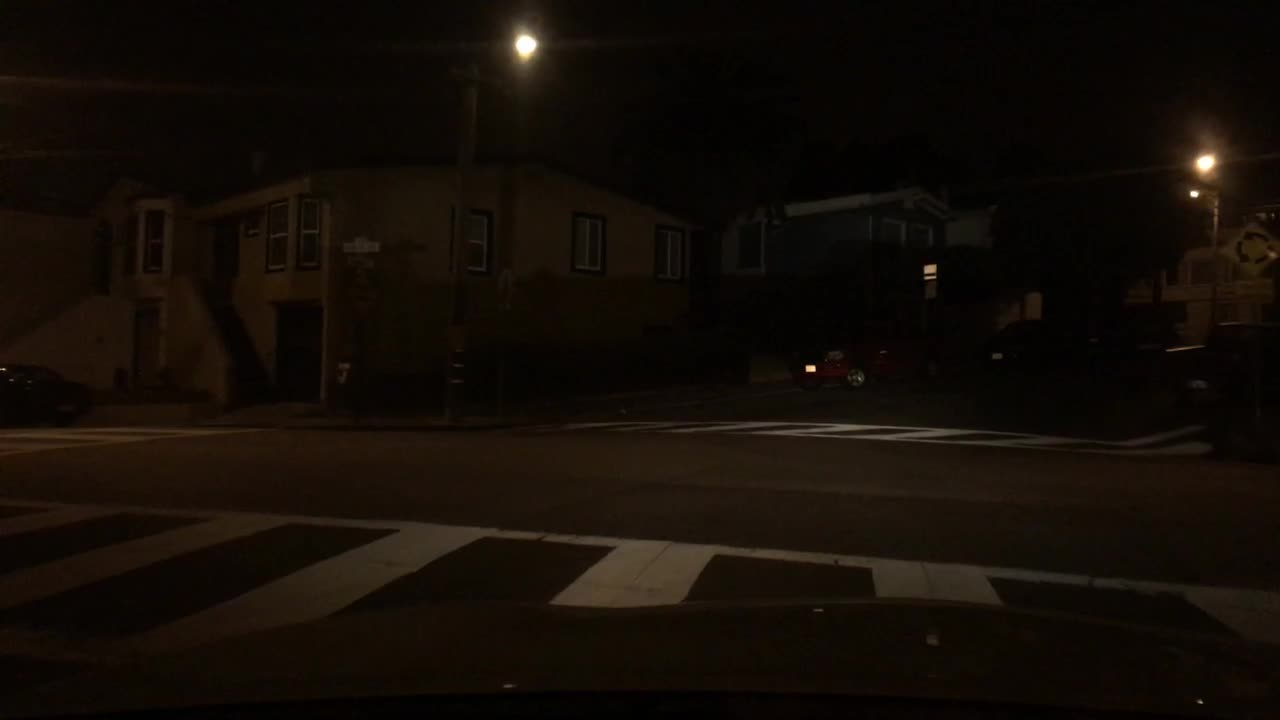car: (803, 329, 924, 389), (0, 362, 65, 416)
traffic sign: (1220, 219, 1279, 279), (342, 236, 380, 254)
